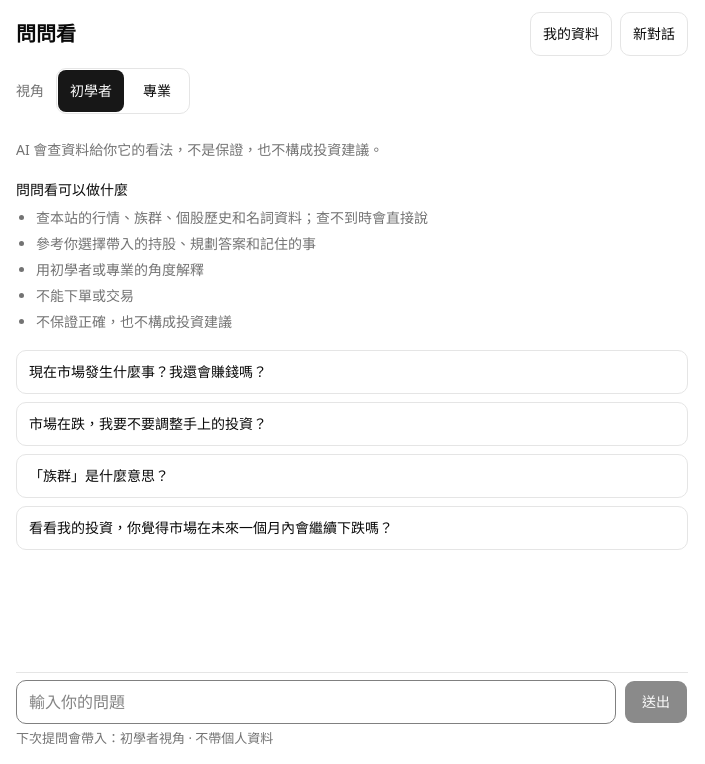
Test case: AskChat: frame › a lens change says it affects only the next question
The image size is (705, 764).
Step 1. Click the button "專業" → point(157, 91), box [125,69,189,113]
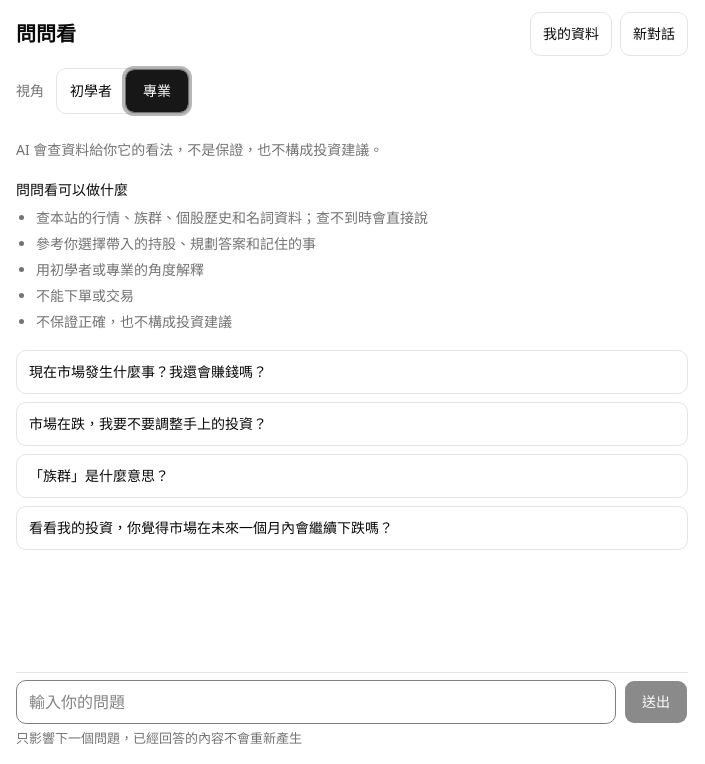
Result: the text "只影響下一個問題，已經回答的內容不會重新產生" is shown at [16,729,302,747]
